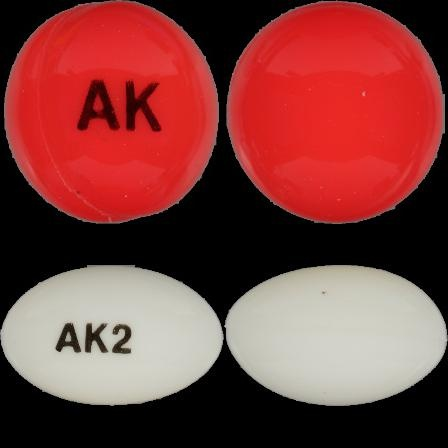17478-766: (0, 0, 224, 224)
